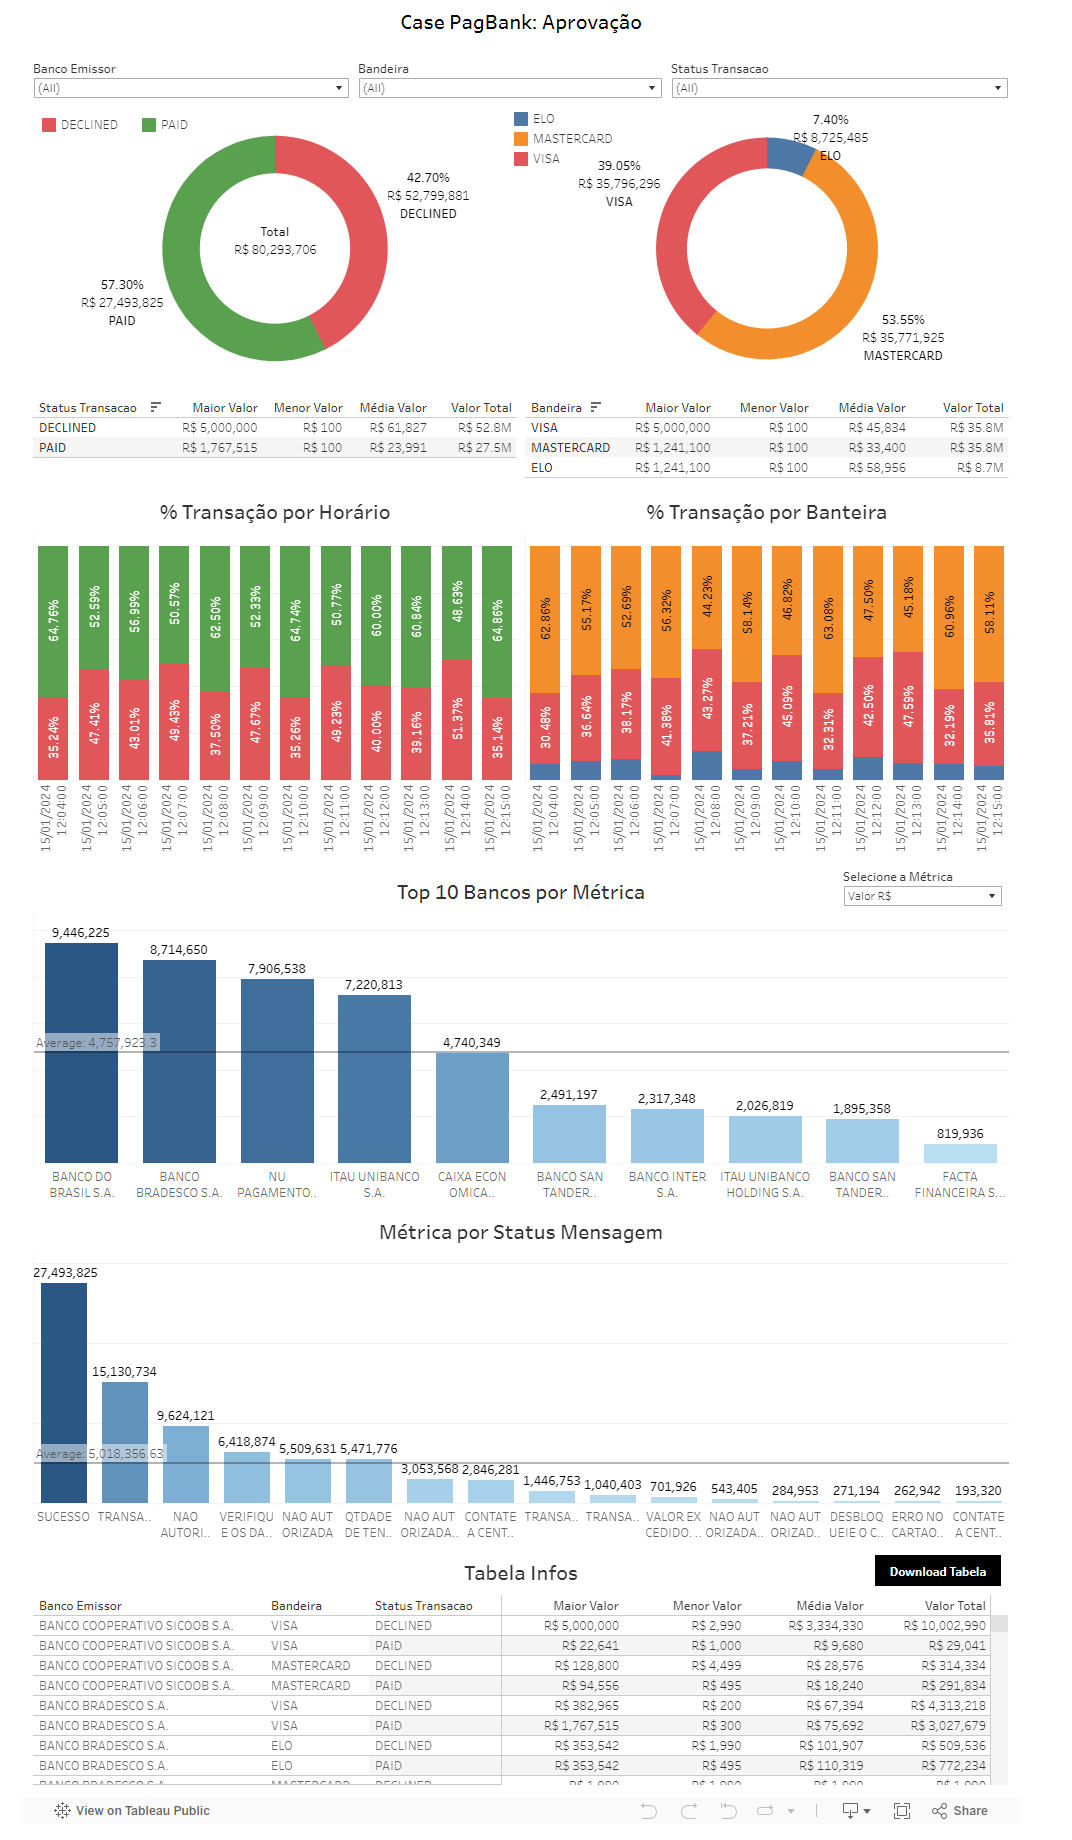

This screenshot's page, from the dashboard's own definition file:
{"tool":"tableau","page":{"name":"PagBank","canvas":[1000,1800],"ordinal":0},"visuals":[{"type":"text","box":[8,8,984,32]},{"type":"filter","title":"Status transação (rosca)","param":"[federated.0bfx3ku0tislai12spig51jsbpzv].[none:banco_emissor:nk]","box":[8,58,325,49]},{"type":"filter","title":"Status transação (rosca)","param":"[federated.0bfx3ku0tislai12spig51jsbpzv].[none:bandeira:nk]","box":[333,58,313,49]},{"type":"filter","title":"Status transação Bandeira Declined (rosca) (2)","param":"[federated.0bfx3ku0tislai12spig51jsbpzv].[none:status_transacao:nk]","box":[646,58,346,49]},{"type":"worksheet","title":"Status transação (rosca)","mark":"Pie","rows":["Calculation_873698380619022338","Calculation_873698380619022338"],"box":[8,107,492,289]},{"type":"worksheet","title":"Status transação Bandeira Declined (rosca) (2)","mark":"Pie","rows":["Calculation_873698380619022338","Calculation_873698380619022338"],"box":[500,107,492,289]},{"type":"legend","title":"Status transação Bandeira Declined (rosca) (2)","param":"[federated.0bfx3ku0tislai12spig51jsbpzv].[none:bandeira:nk]","box":[490,112,107,90]},{"type":"legend","title":"Status transação (rosca)","param":"[federated.0bfx3ku0tislai12spig51jsbpzv].[none:status_transacao:nk]","box":[18,118,202,25]},{"type":"worksheet","title":"Tabela Status Transacoes","mark":"Automatic","rows":["status_transacao"],"box":[8,396,492,82]},{"type":"worksheet","title":"Tabela Status Transacoes - Bandeiras","mark":"Automatic","rows":["bandeira"],"box":[500,396,492,94]},{"type":"worksheet","title":"Horas por Status (Transações)","mark":"Bar","cols":["timestamp"],"box":[8,490,492,379.9]},{"type":"worksheet","title":"Horas por status Bandeira (Transações)","mark":"Bar","cols":["timestamp"],"box":[500,490,492,379.9]},{"type":"worksheet","title":"Banco por Transacao Metrica (Top 10)","mark":"Bar","rows":["Calculation_926334201721032704"],"cols":["banco_emissor"],"box":[8,869.9,984,340]},{"type":"parameter","param":"[Parameters].[Parâmetro 1]","box":[822,870,160,44]},{"type":"worksheet","title":"Transacao por status mensagem","mark":"Bar","rows":["Calculation_926334201721032704"],"cols":["mensagem_processamento"],"box":[8,1209.9,984,341.1]},{"type":"worksheet","title":"Tabela Banco/Bandeira Transacoes","mark":"Automatic","rows":["banco_emissor","bandeira","status_transacao"],"box":[8,1551,984,241]},{"type":"dashboard-object","box":[854,1558,126,31]}]}

Visuals, with their boxes on the page's 1000x1800 design canvas (x1, y1, x2, y2). These are canvas units, not pixel positions in the 1072x1840 screenshot, which may show the page scaled, cropped or inside an application window:
text: (8,8,992,40)
"Status transação (rosca)" filter: (8,58,333,107)
"Status transação (rosca)" filter: (333,58,646,107)
"Status transação Bandeira Declined (rosca) (2)" filter: (646,58,992,107)
"Status transação (rosca)" worksheet (Pie marks): (8,107,500,396)
"Status transação Bandeira Declined (rosca) (2)" worksheet (Pie marks): (500,107,992,396)
"Status transação Bandeira Declined (rosca) (2)" legend: (490,112,597,202)
"Status transação (rosca)" legend: (18,118,220,143)
"Tabela Status Transacoes" worksheet: (8,396,500,478)
"Tabela Status Transacoes - Bandeiras" worksheet: (500,396,992,490)
"Horas por Status (Transações)" worksheet (Bar marks): (8,490,500,870)
"Horas por status Bandeira (Transações)" worksheet (Bar marks): (500,490,992,870)
"Banco por Transacao Metrica (Top 10)" worksheet (Bar marks): (8,870,992,1210)
parameter: (822,870,982,914)
"Transacao por status mensagem" worksheet (Bar marks): (8,1210,992,1551)
"Tabela Banco/Bandeira Transacoes" worksheet: (8,1551,992,1792)
dashboard-object: (854,1558,980,1589)
